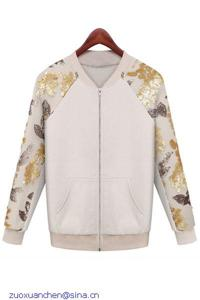C_jacket: (1, 47, 200, 253)
